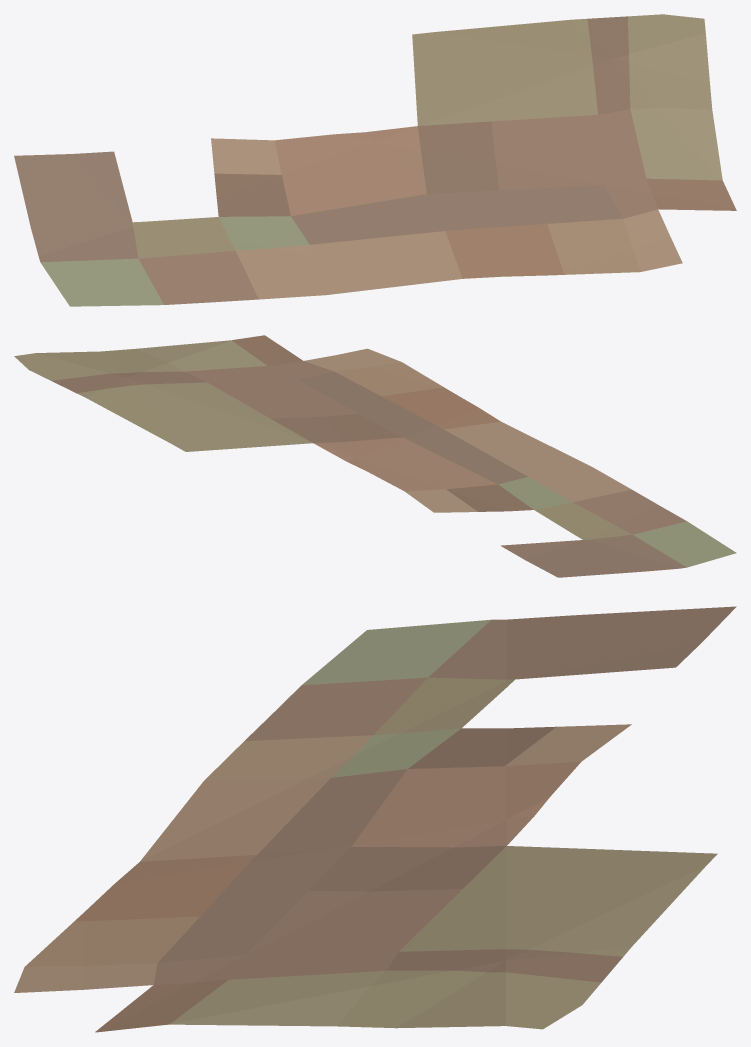
The model's file is farm_2_33_soil.glb.
The picture shows the model from 3 angles, top to bottom: view 1: azimuth 30°, elevation 25°; view 2: azimuth 150°, elevation 25°; view 3: azimuth 270°, elevation 25°; orthographic projection. The views are drawn at different scales.
Parts seen in each view (by area): view 1: geometry_0; view 2: geometry_0; view 3: geometry_0.
Boxes of the visible parts, <box> form: geometry_0: <box>14,14,736,306</box>; geometry_0: <box>14,335,736,577</box>; geometry_0: <box>14,606,736,1032</box>.
Size of the model in its own units: 232 by 25.95 by 137.
